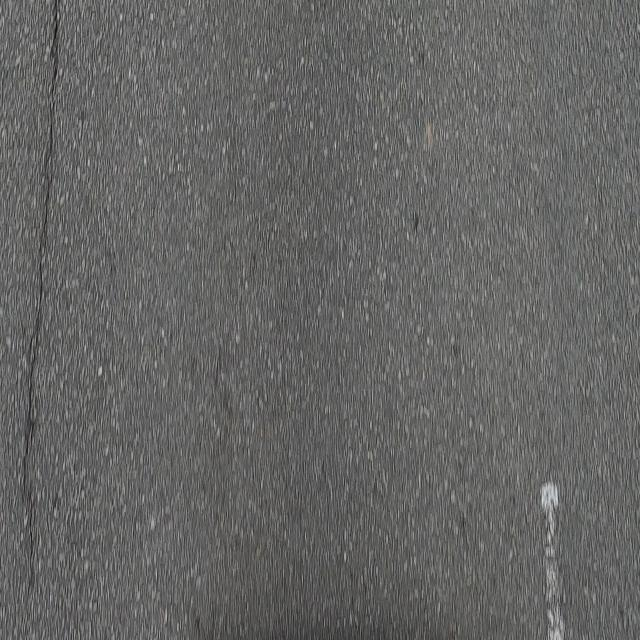Retak-Memanjang: (15, 0, 66, 589)
